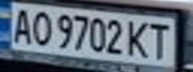0: (87, 15, 109, 54)
2: (103, 16, 127, 56)
7: (69, 12, 90, 52)
9: (51, 10, 75, 49)
A: (6, 6, 36, 45)
K: (124, 17, 151, 60)
O: (27, 8, 54, 47)
T: (145, 20, 175, 61)
